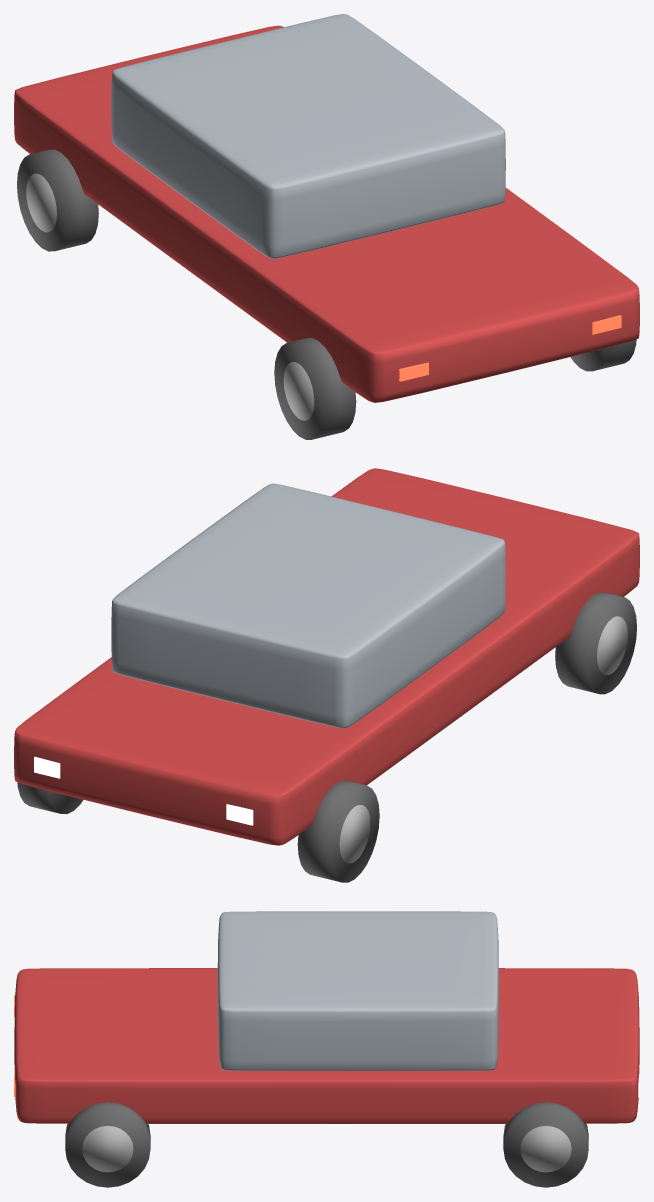
The model's file is sports-car.glb.
The picture shows the model from 3 angles, top to bottom: view 1: azimuth 30°, elevation 25°; view 2: azimuth 150°, elevation 25°; view 3: azimuth 270°, elevation 25°; orthographic projection. The views are drawn at different scales.
Visible parts, largest first — view 1: SportsCar_Body, SportsCar_Cabin, SportsCar_Wheel_RL, SportsCar_Wheel_FL, SportsCar_Rim_FL, SportsCar_Rim_RL, SportsCar_Wheel_RR; view 2: SportsCar_Body, SportsCar_Cabin, SportsCar_Wheel_FL, SportsCar_Wheel_RL, SportsCar_Rim_RL, SportsCar_Rim_FL, SportsCar_Wheel_FR; view 3: SportsCar_Body, SportsCar_Cabin, SportsCar_Wheel_FR, SportsCar_Wheel_RR, SportsCar_Rim_FR, SportsCar_Rim_RR.
Part boxes in pixels (left/top/right/bottom): SportsCar_Body: left=14, top=25, right=639, bottom=402; SportsCar_Cabin: left=111, top=14, right=505, bottom=258; SportsCar_Wheel_RL: left=274, top=338, right=356, bottom=439; SportsCar_Wheel_FL: left=17, top=149, right=98, bottom=251; SportsCar_Rim_FL: left=26, top=173, right=56, bottom=232; SportsCar_Rim_RL: left=283, top=362, right=314, bottom=420; SportsCar_Wheel_RR: left=570, top=339, right=636, bottom=371; SportsCar_Body: left=14, top=468, right=639, bottom=845; SportsCar_Cabin: left=111, top=483, right=505, bottom=728; SportsCar_Wheel_FL: left=297, top=780, right=379, bottom=882; SportsCar_Wheel_RL: left=555, top=592, right=636, bottom=694; SportsCar_Rim_RL: left=597, top=616, right=627, bottom=674; SportsCar_Rim_FL: left=339, top=805, right=370, bottom=863; SportsCar_Wheel_FR: left=17, top=782, right=83, bottom=814; SportsCar_Body: left=14, top=968, right=639, bottom=1123; SportsCar_Cabin: left=217, top=911, right=498, bottom=1070; SportsCar_Wheel_FR: left=503, top=1102, right=588, bottom=1187; SportsCar_Wheel_RR: left=65, top=1102, right=150, bottom=1187; SportsCar_Rim_FR: left=520, top=1126, right=571, bottom=1172; SportsCar_Rim_RR: left=82, top=1126, right=133, bottom=1172.
Bounding box in the file's own units: 2.17 × 1.27 × 4.4.
